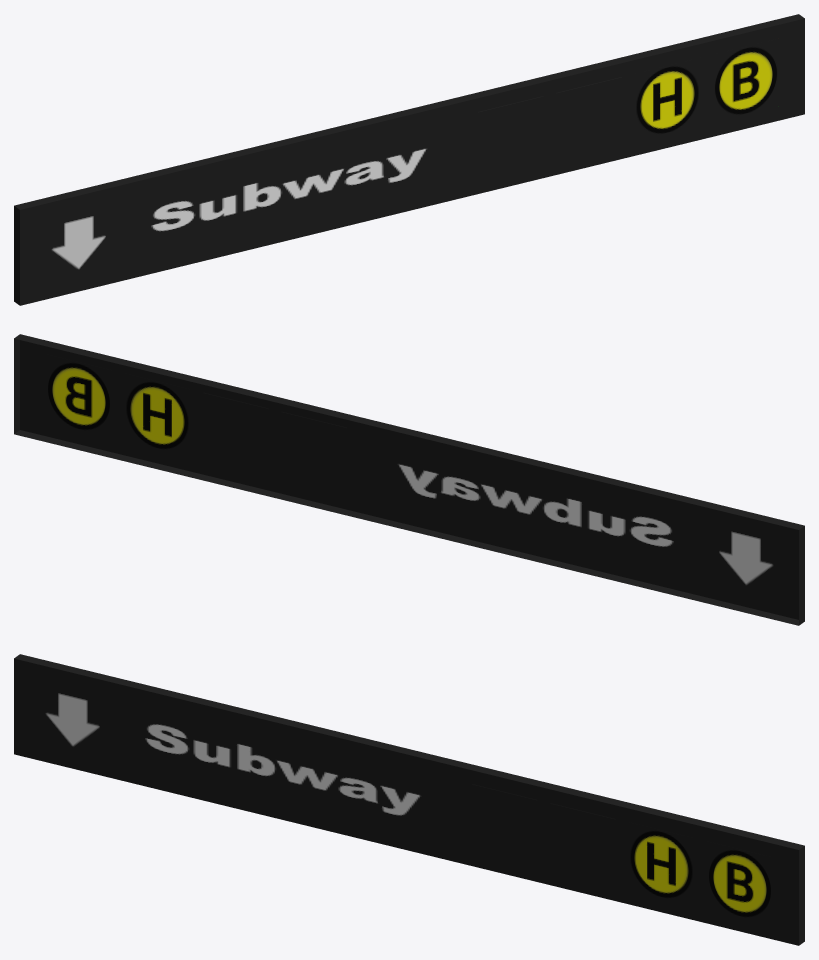
Rendered from SW_PROP_Sign_StreetEntrance_02_HB.fbx.
The picture shows the model from 3 angles, top to bottom: view 1: azimuth 30°, elevation 25°; view 2: azimuth 150°, elevation 25°; view 3: azimuth 330°, elevation 25°; orthographic projection.
Visible parts, largest first — view 1: SW_PROP_Sign_StreetEntrance_02_HB; view 2: SW_PROP_Sign_StreetEntrance_02_HB; view 3: SW_PROP_Sign_StreetEntrance_02_HB.
Boxes of the visible parts, x1=… form: SW_PROP_Sign_StreetEntrance_02_HB: x1=14, y1=14, x2=804, y2=305; SW_PROP_Sign_StreetEntrance_02_HB: x1=14, y1=334, x2=804, y2=625; SW_PROP_Sign_StreetEntrance_02_HB: x1=14, y1=654, x2=804, y2=945.
Size of the model in its own units: 3 by 0.35 by 0.04.
